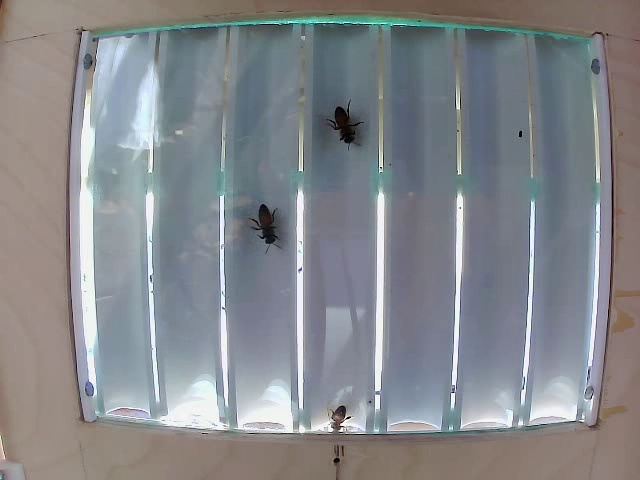bee: (241, 189, 284, 249), (326, 92, 365, 155)
